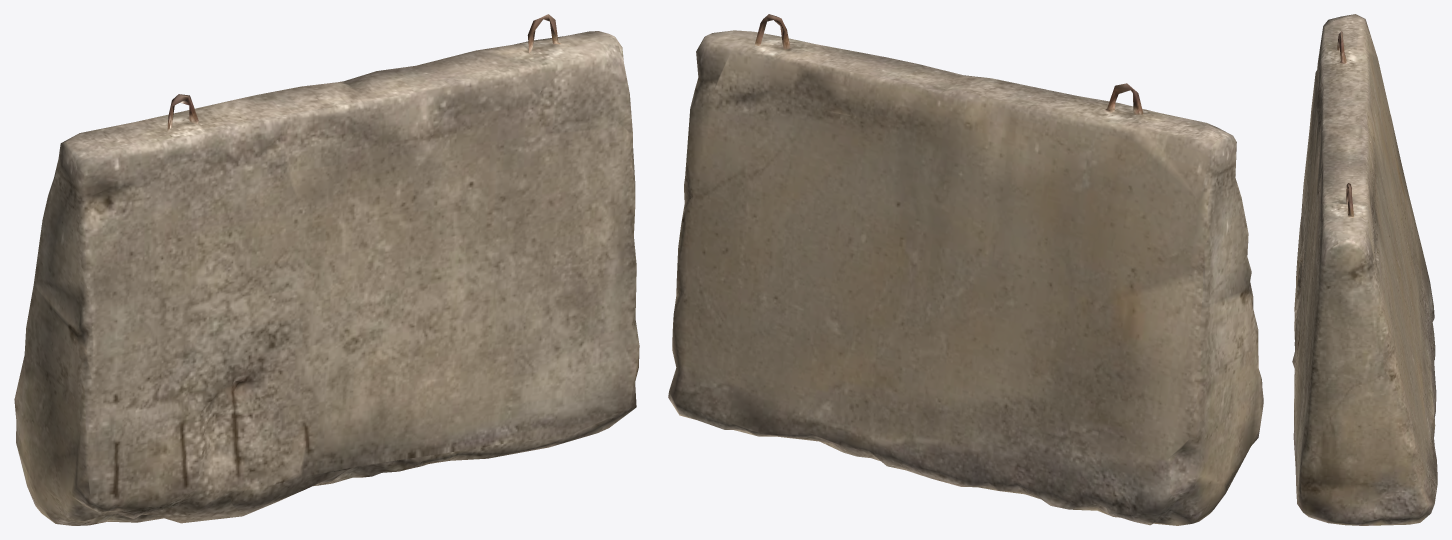
The model's file is concrete_road_barrier_02.gltf.
The picture shows the model from 3 angles, left to right: view 1: azimuth 30°, elevation 25°; view 2: azimuth 150°, elevation 25°; view 3: azimuth 270°, elevation 25°; orthographic projection. The views are drawn at different scales.
Visible parts, largest first — view 1: concrete_road_barrier_02; view 2: concrete_road_barrier_02; view 3: concrete_road_barrier_02.
Boxes of the visible parts, x1,y1,x2,y2 form: concrete_road_barrier_02: (14,14,639,525); concrete_road_barrier_02: (668,14,1263,525); concrete_road_barrier_02: (1292,14,1437,525).
Bounding box in the file's own units: 1.56 × 1.11 × 0.4418.
1 material, 1 textured.
